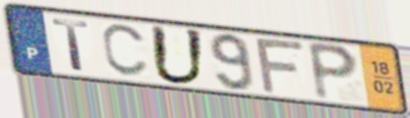9: (206, 31, 257, 94)
C: (99, 23, 151, 80)
F: (253, 37, 307, 95)
P: (305, 39, 361, 104)
T: (49, 17, 93, 73)
U: (147, 22, 208, 87)
